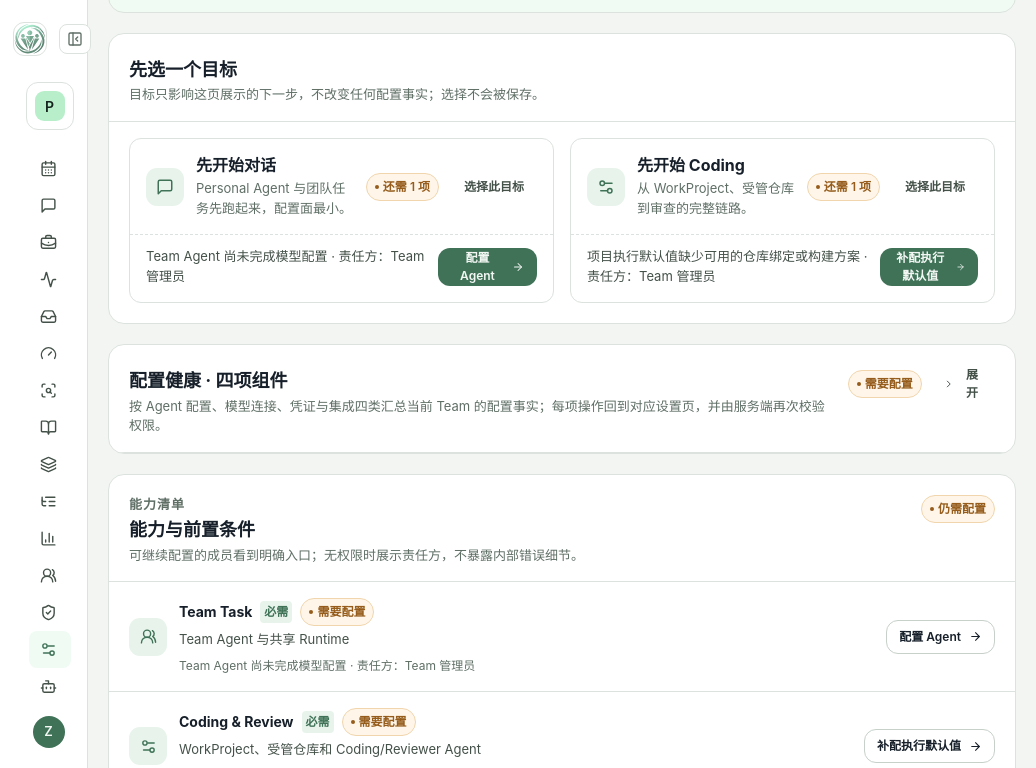
SetupPage › collapses the four configuration-health components until asked for
This screenshot has width=1036, height=768.
(page scrolled)
Expected: the text "Agent 还没有可用的模型连接" is not shown
Click the button "展开" at (962, 384), box top-left (930, 366), bottom-right (995, 404)
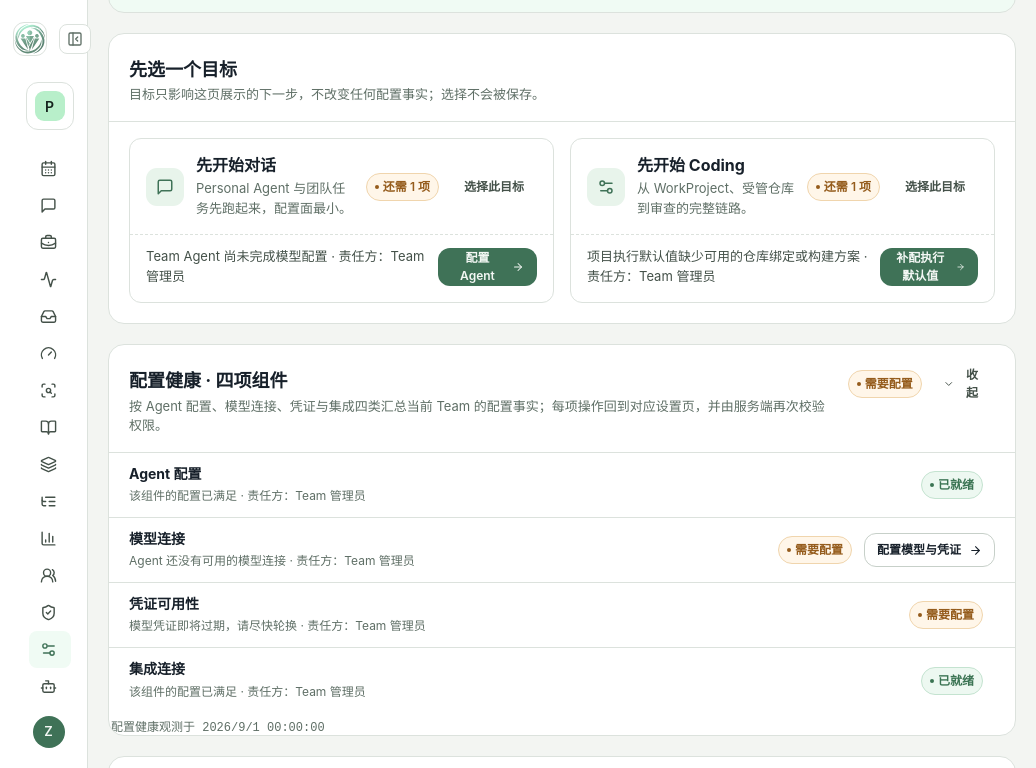
Result: the text "凭证可用性" is shown at top-left (129, 595), bottom-right (199, 612)
Result: the text "集成连接" is shown at top-left (129, 660), bottom-right (185, 677)
Result: the text "Agent 还没有可用的模型连接" is shown at top-left (129, 553), bottom-right (415, 568)
